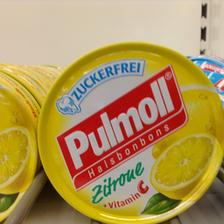Suessigkeit: (37, 41, 224, 220)
